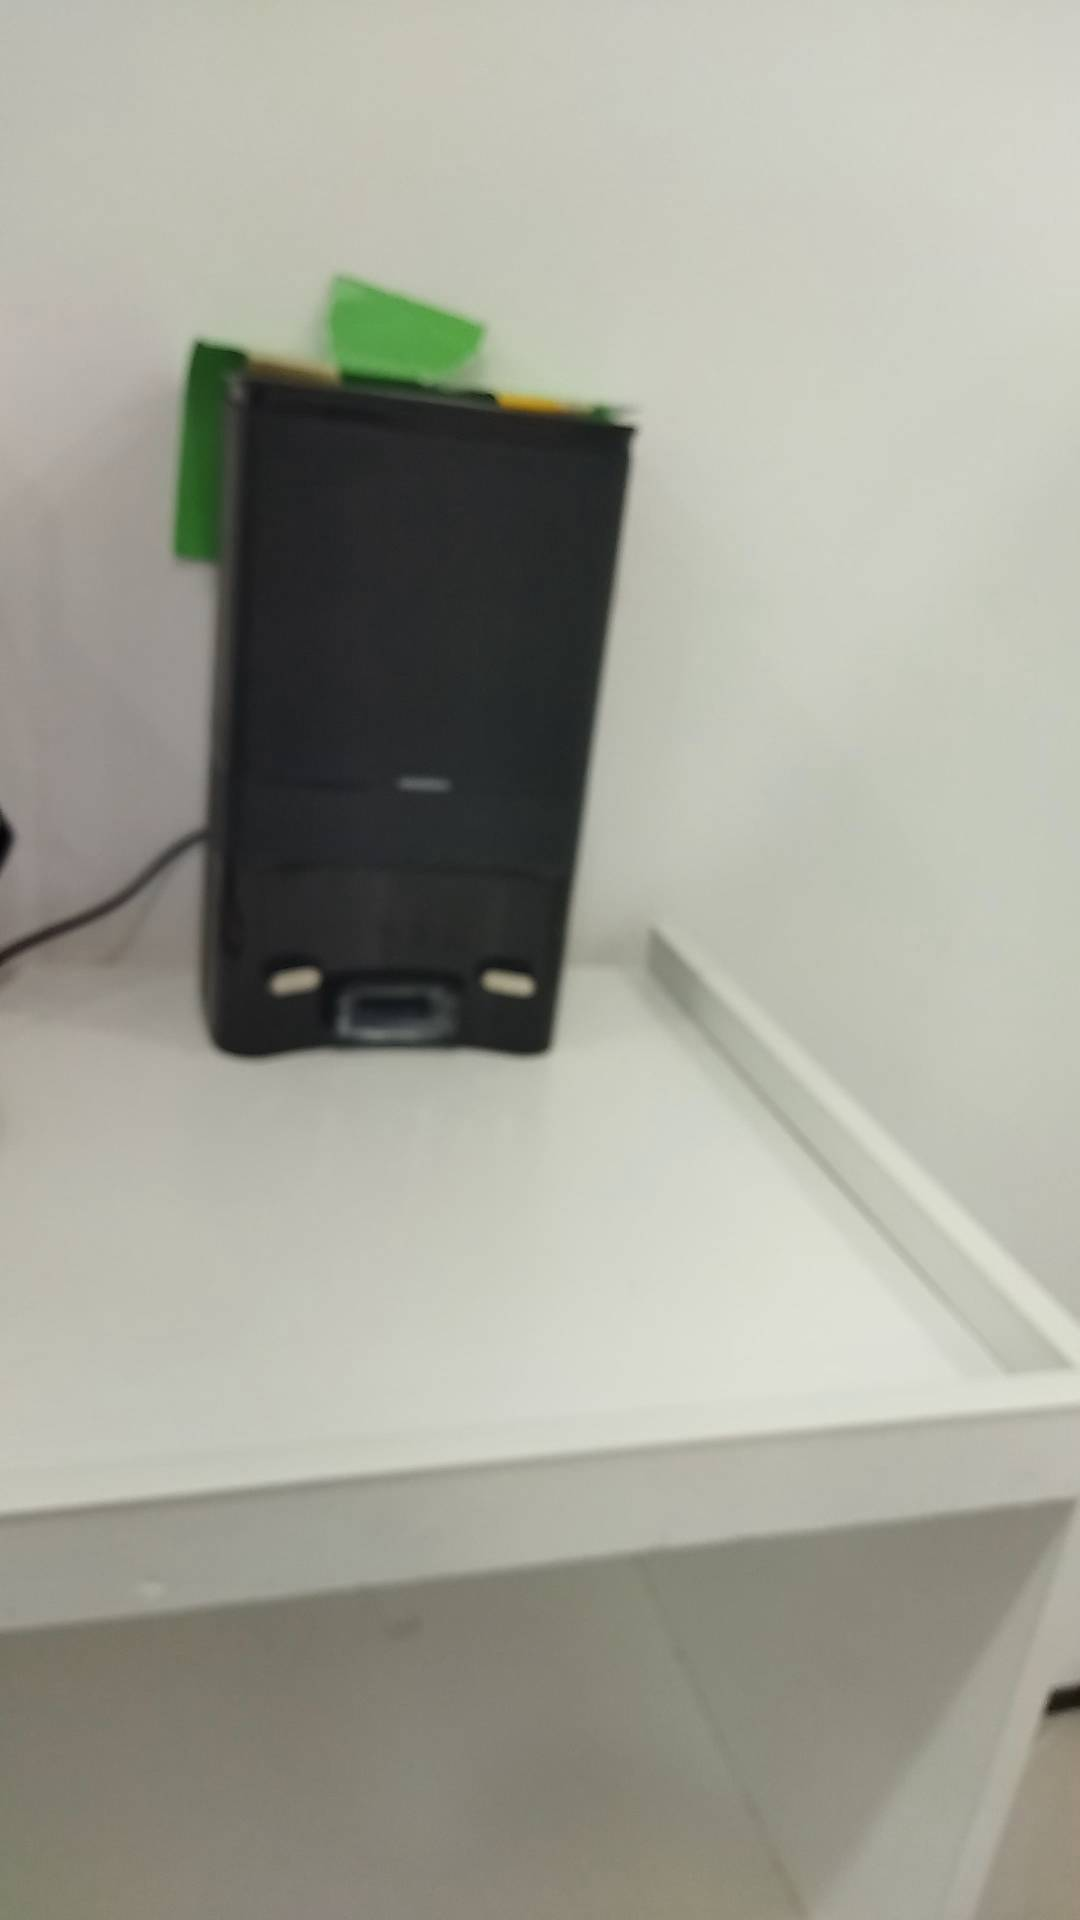dust collecting barrel: (194, 377, 636, 1059)
